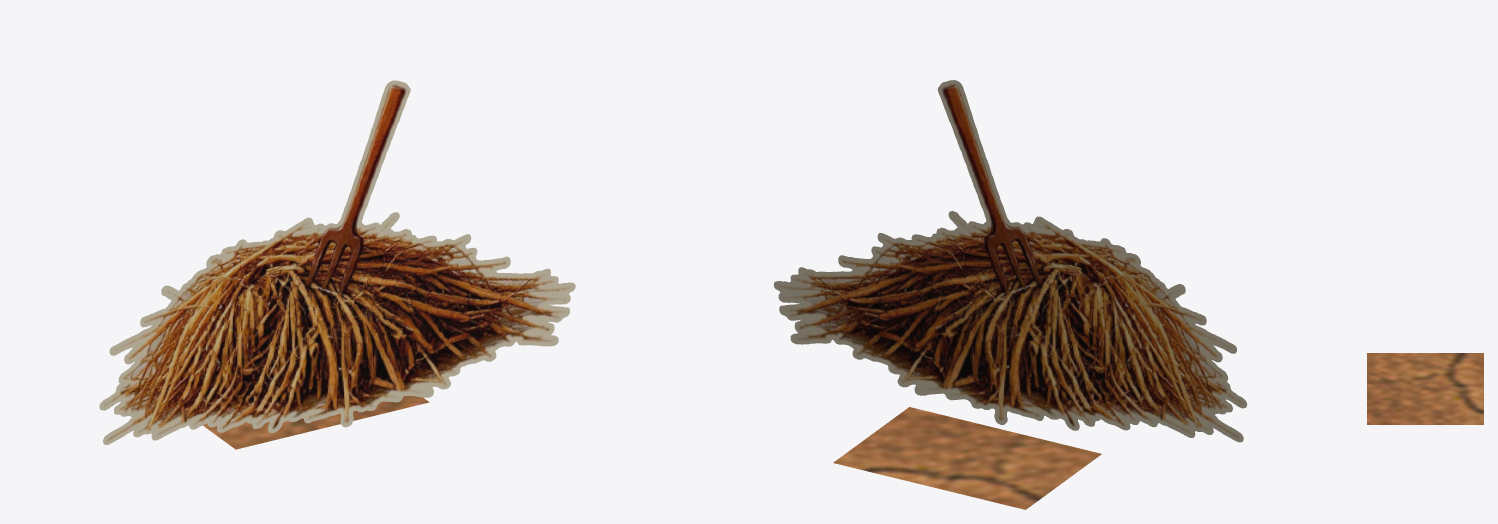
The model's file is toad-prop-hay-pile.glb.
The picture shows the model from 3 angles, left to right: view 1: azimuth 30°, elevation 25°; view 2: azimuth 150°, elevation 25°; view 3: azimuth 270°, elevation 25°; orthographic projection. The views are drawn at different scales.
Parts seen in each view (by area): view 1: hay-pile; view 2: hay-pile; view 3: hay-pile.
Part boxes in pixels (x1=…): hay-pile: x1=99, y1=80, x2=575, y2=449; hay-pile: x1=773, y1=80, x2=1247, y2=509; hay-pile: x1=1367, y1=353, x2=1483, y2=424.
Size of the model in its own units: 0.16 by 0.08 by 0.035.
Materials: 1 (1 with a texture image).
